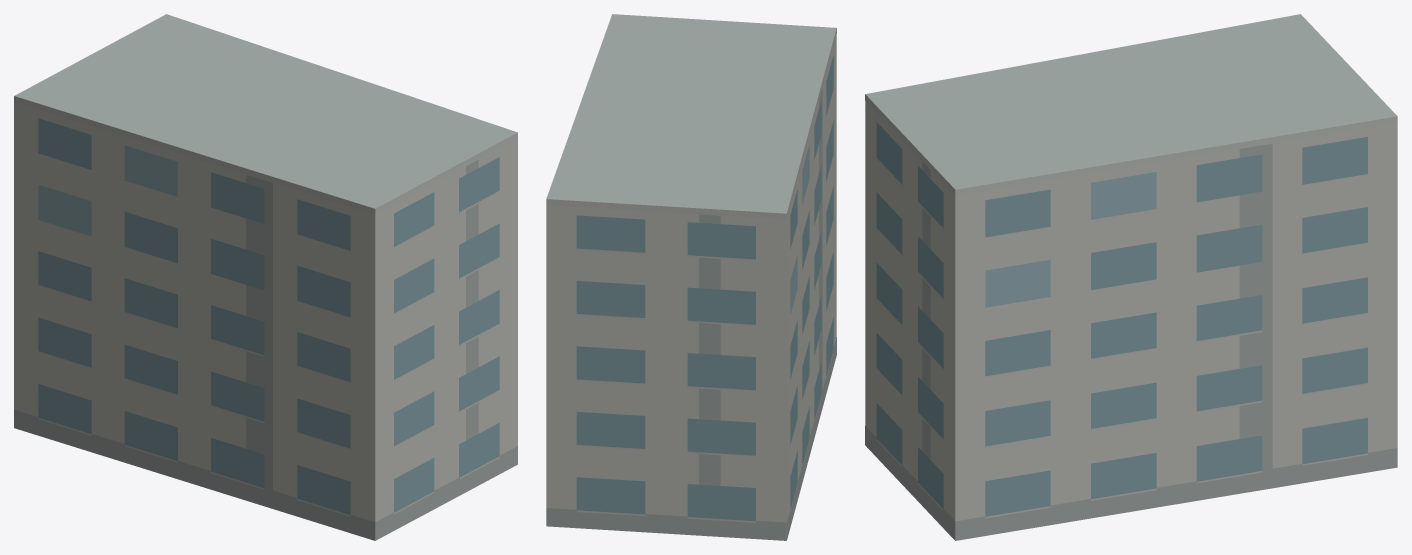
Rendered from survey-upis-32894159.glb.
3 renders of one model, left to right at view 1: azimuth 30°, elevation 25°; view 2: azimuth 150°, elevation 25°; view 3: azimuth 270°, elevation 25°, orthographic. The views are drawn at different scales.
Visible parts, largest first — view 1: survey-upis-32894159.tmp; view 2: survey-upis-32894159.tmp; view 3: survey-upis-32894159.tmp.
Boxes of the visible parts, bbox=[...] form: survey-upis-32894159.tmp: bbox=[14, 14, 517, 540]; survey-upis-32894159.tmp: bbox=[546, 14, 836, 540]; survey-upis-32894159.tmp: bbox=[865, 14, 1397, 540].
Size of the model in its own units: 14.06 by 13.1 by 18.01.
